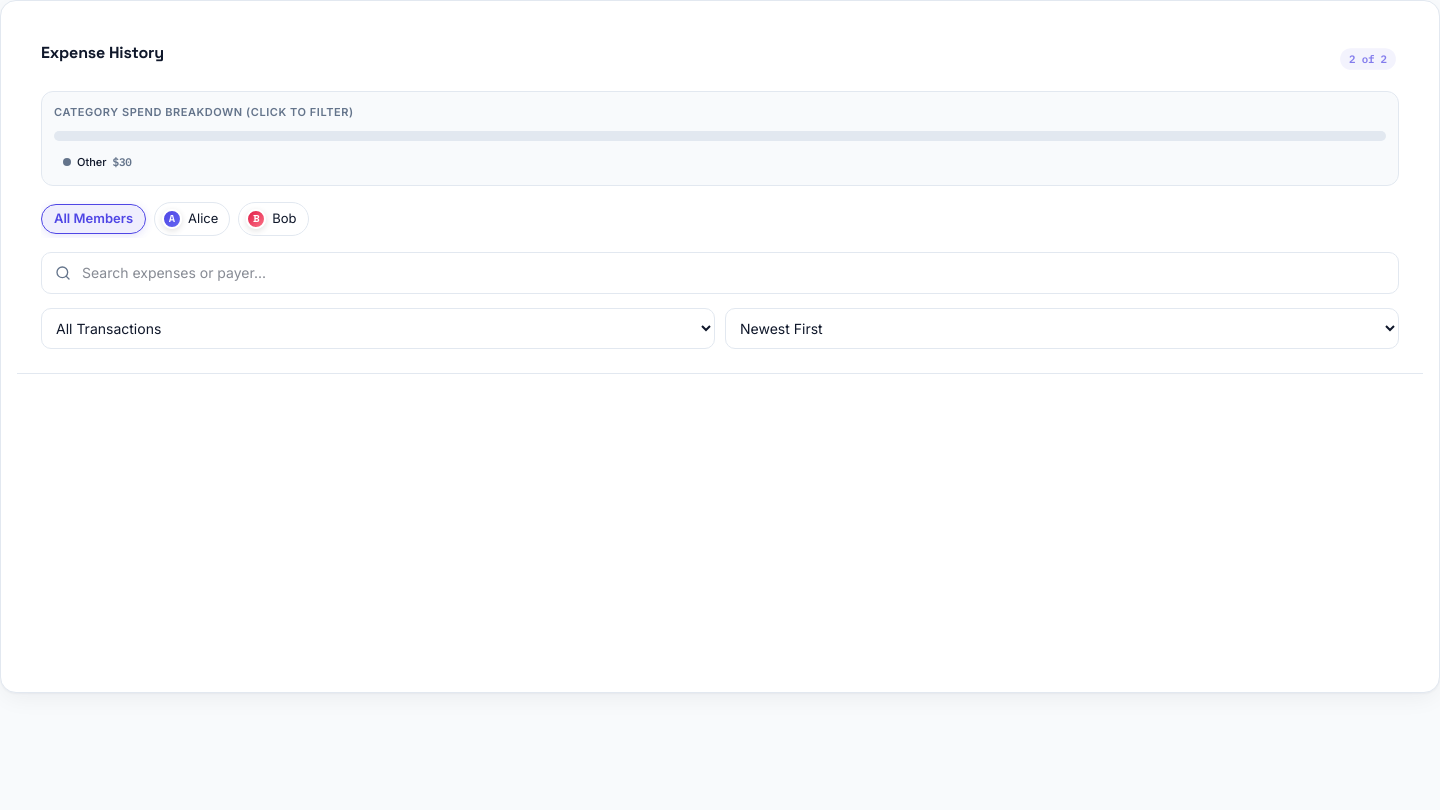
it: ExpenseList search › filters by payer name without crashing
Type "bob" into the field with placeholder "Search expenses or payer...". click: (720, 273)
box: [41,252,1399,294]
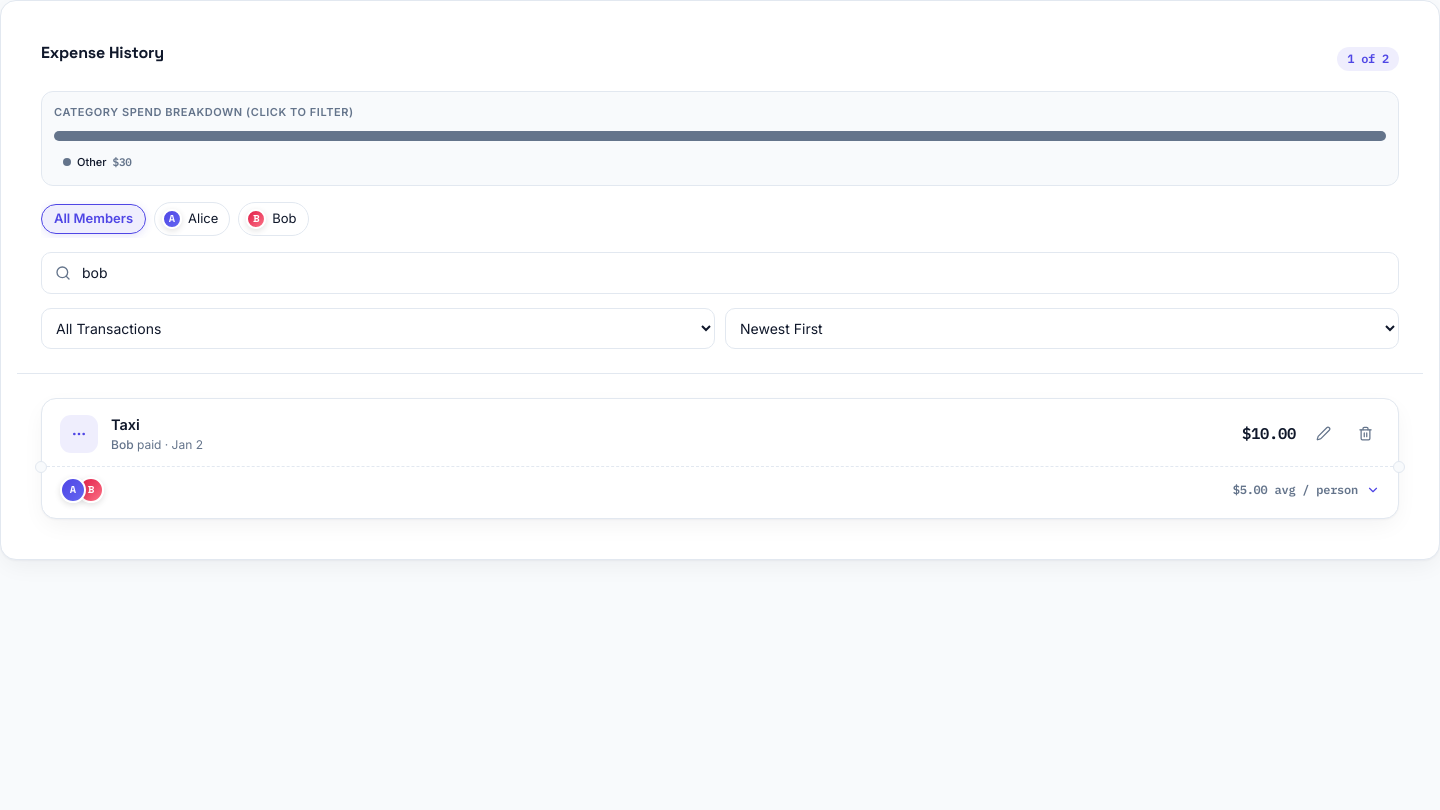
Expected: the text "Taxi" is shown, [111,414,140,436]
